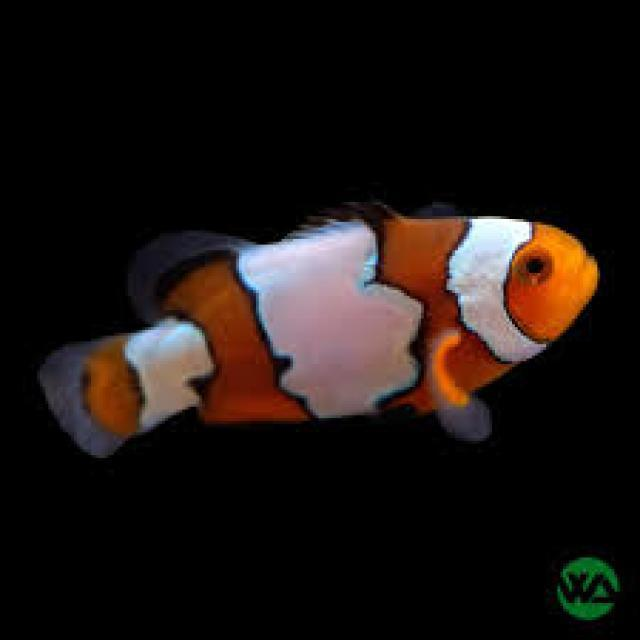ClownFish: (36, 203, 597, 461)
